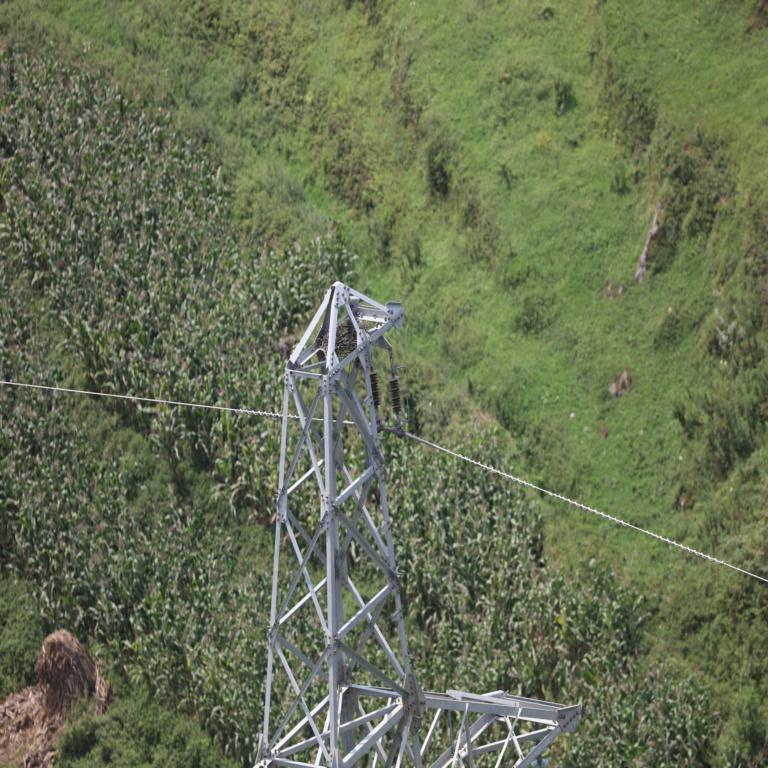nest: (320, 325, 367, 357)
